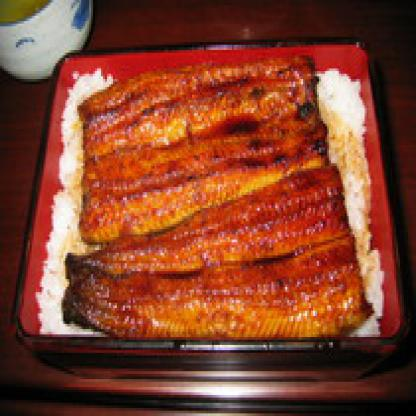eel: (85, 66, 351, 334)
